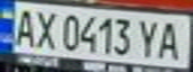0: (57, 10, 81, 53)
1: (96, 13, 115, 55)
3: (112, 15, 136, 56)
4: (78, 12, 100, 54)
A: (154, 18, 187, 61), (9, 5, 39, 48)
X: (30, 7, 60, 51)
Y: (133, 16, 163, 60)
